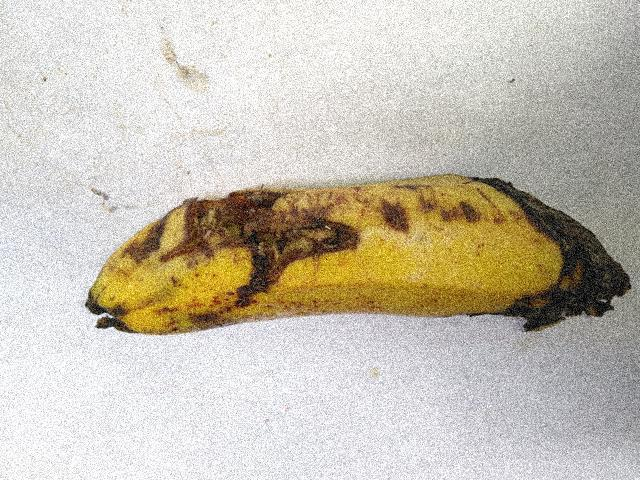rotten: (55, 148, 374, 331), (396, 134, 639, 364)
